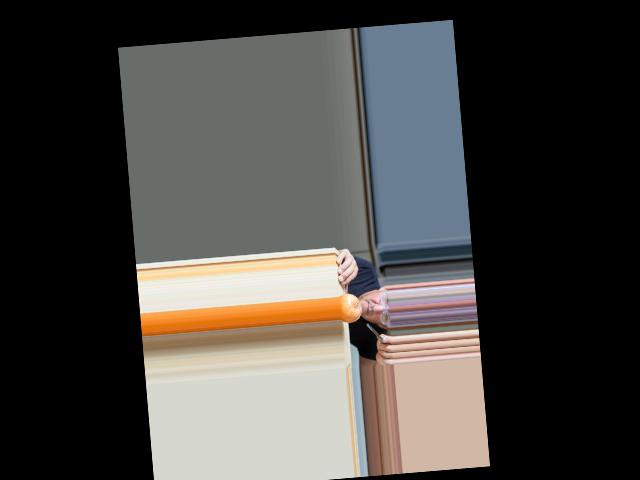onion: (338, 292, 362, 324)
